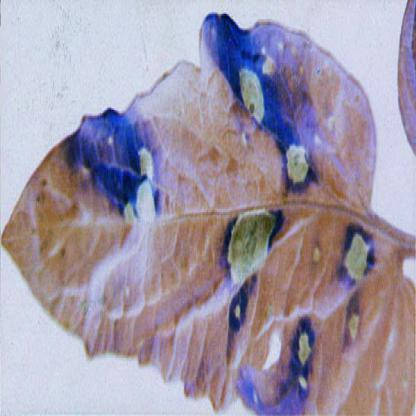Potato leaf late blight: (4, 1, 382, 414)
